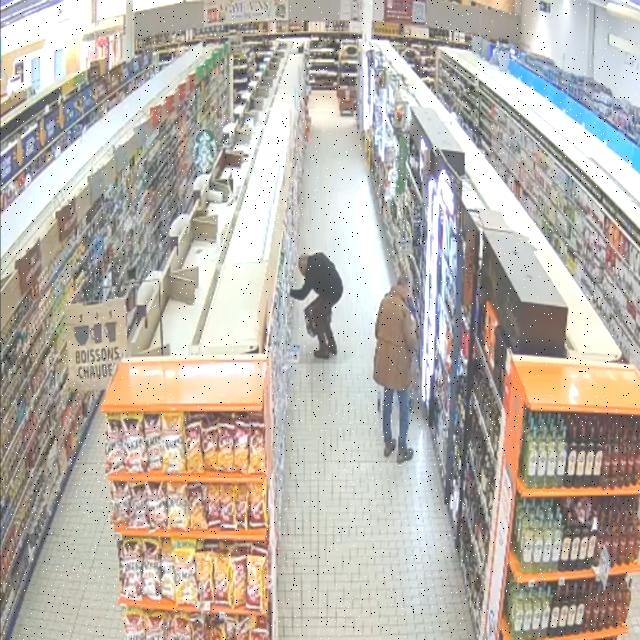bags: (304, 303, 317, 337)
person: (374, 274, 418, 462), (291, 253, 343, 359)
